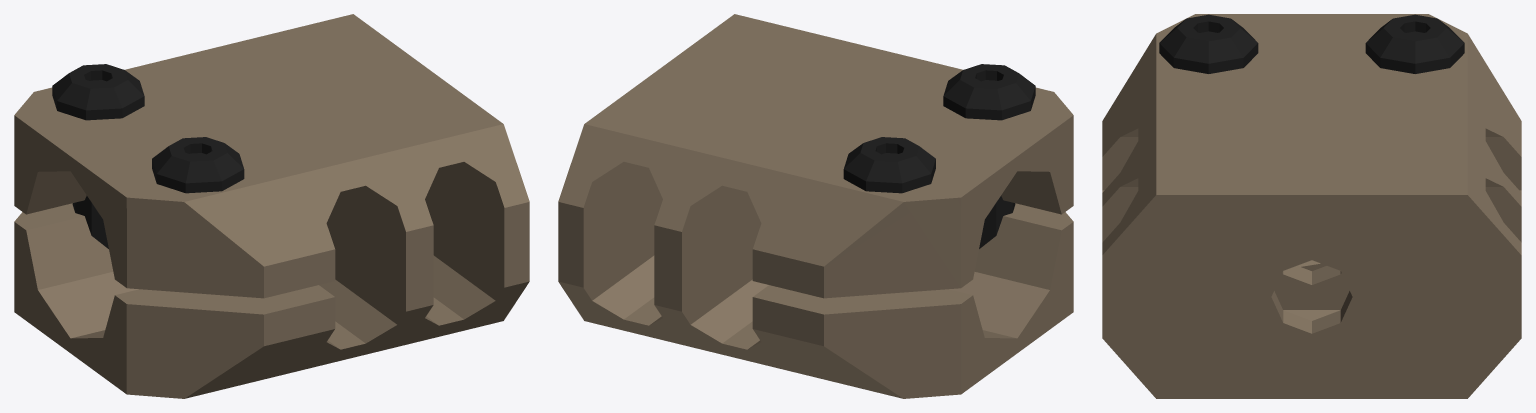
File: c14_timberwolf_muzzle.glb
3 views of the same model, side by side, from view 1: azimuth 30°, elevation 25°; view 2: azimuth 150°, elevation 25°; view 3: azimuth 270°, elevation 25° (orthographic). The views are drawn at different scales.
Visible parts, largest first — view 1: c14 muzzle brake_9 (×2); view 2: c14 muzzle brake_9 (×2); view 3: c14 muzzle brake_9 (×2).
Boxes of the visible parts, box(x1,y1,x2,y2) form: c14 muzzle brake_9 (×2): box(14, 14, 529, 398); c14 muzzle brake_9 (×2): box(558, 14, 1073, 398); c14 muzzle brake_9 (×2): box(1102, 14, 1521, 398).
Bounding box in the file's own units: 0.501 × 0.3021 × 0.491.
